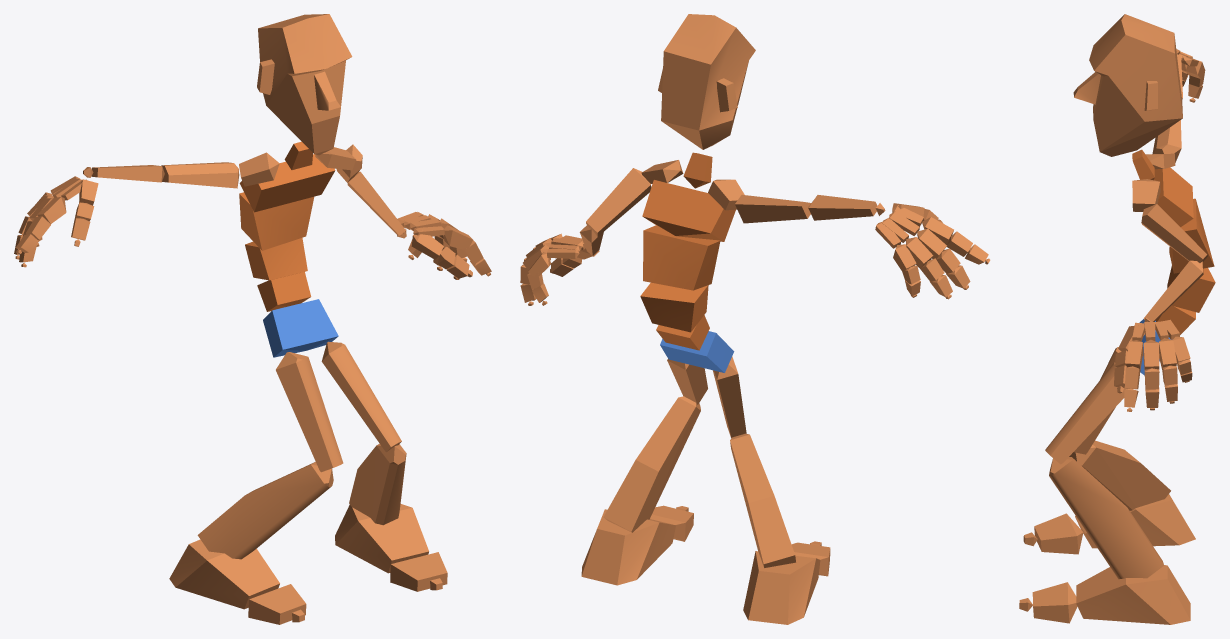
3 renders of one model, left to right at view 1: azimuth 30°, elevation 25°; view 2: azimuth 150°, elevation 25°; view 3: azimuth 270°, elevation 25°, orthographic.
Parts seen in each view (by area): view 1: BOPED_Head, BOPED_R_leg, BOPED_R_foot, BOPED_R_foot01, BOPED_R_legup, BOPED_L_leg, Bone01, BOPED_L_legup, Bone04, Bone05, Bone03, BOPED_R_arm_upper (+6 smaller); view 2: BOPED_Head, BOPED_L_leg, BOPED_R_foot01, BOPED_R_foot, BOPED_R_leg, Bone04, Bone05, Bone03, BOPED_L_arm_upper, BOPED_R_arm_upper, Bone01, BOPED_R_legup (+8 smaller); view 3: BOPED_Head, BOPED_L_leg, BOPED_R_foot01, BOPED_R_leg, BOPED_L_legup, BOPED_R_foot, Bone05, BOPED_L_arm_upper, BOPED_R_foot_toe01, BOPED_R_foot_toe04, BOPED_L_arm_fore, Bone04 (+14 smaller).
Part boxes in pixels (x1,y1,x2,y2): BOPED_Head: (257, 14, 352, 155); BOPED_R_leg: (197, 462, 333, 559); BOPED_R_foot: (169, 539, 279, 609); BOPED_R_foot01: (335, 504, 428, 573); BOPED_R_legup: (276, 352, 343, 472); BOPED_L_leg: (349, 444, 406, 525); Bone01: (263, 299, 338, 357); BOPED_L_legup: (321, 341, 401, 452); Bone04: (239, 192, 314, 250); Bone05: (239, 154, 335, 212); Bone03: (245, 238, 307, 280); BOPED_R_arm_upper: (161, 162, 239, 188); BOPED_Head: (658, 14, 755, 149); BOPED_L_leg: (603, 396, 700, 532); BOPED_R_foot01: (581, 509, 675, 585); BOPED_R_foot: (743, 551, 820, 624); BOPED_R_leg: (730, 433, 795, 567); Bone04: (643, 225, 720, 290); Bone05: (642, 180, 735, 241); Bone03: (640, 282, 708, 332); BOPED_L_arm_upper: (586, 168, 651, 236); BOPED_R_arm_upper: (735, 194, 811, 223); Bone01: (660, 331, 734, 372); BOPED_R_legup: (713, 356, 746, 438); BOPED_Head: (1073, 14, 1182, 156); BOPED_L_leg: (1049, 457, 1163, 579); BOPED_R_foot01: (1076, 565, 1190, 624); BOPED_R_leg: (1069, 440, 1170, 510); BOPED_L_legup: (1045, 362, 1129, 464); BOPED_R_foot: (1075, 494, 1195, 548); Bone05: (1154, 167, 1193, 227); BOPED_L_arm_upper: (1141, 204, 1207, 262); BOPED_R_foot_toe01: (1034, 513, 1083, 554); BOPED_R_foot_toe04: (1032, 582, 1077, 623); BOPED_L_arm_fore: (1143, 260, 1203, 321); Bone04: (1169, 198, 1214, 273).
Bounding box in the file's own units: 155 × 176 × 56.5.
